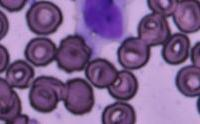L: (76, 0, 129, 43)
